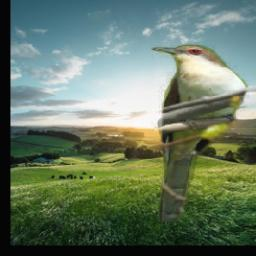Cuckoo: (150, 43, 249, 221)
